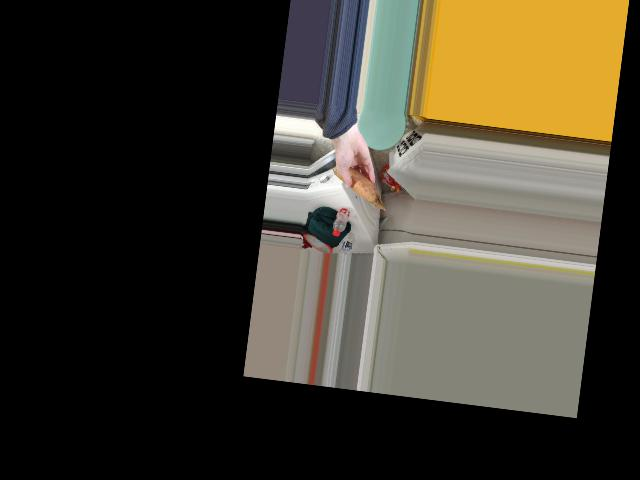sweet_potato: (339, 167, 375, 201)
